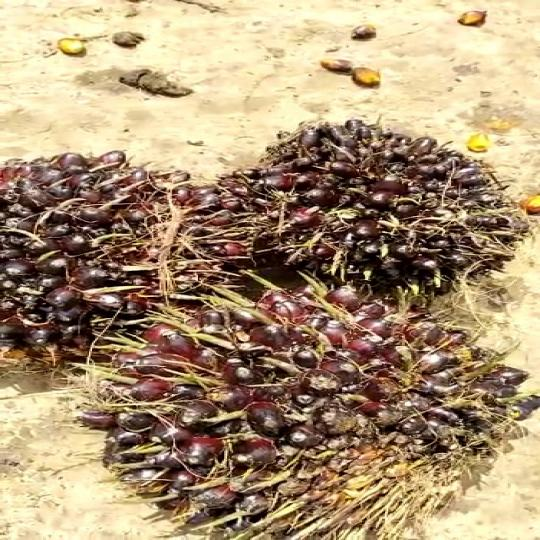mentah: (96, 271, 528, 540), (0, 141, 266, 370), (222, 107, 540, 294)
